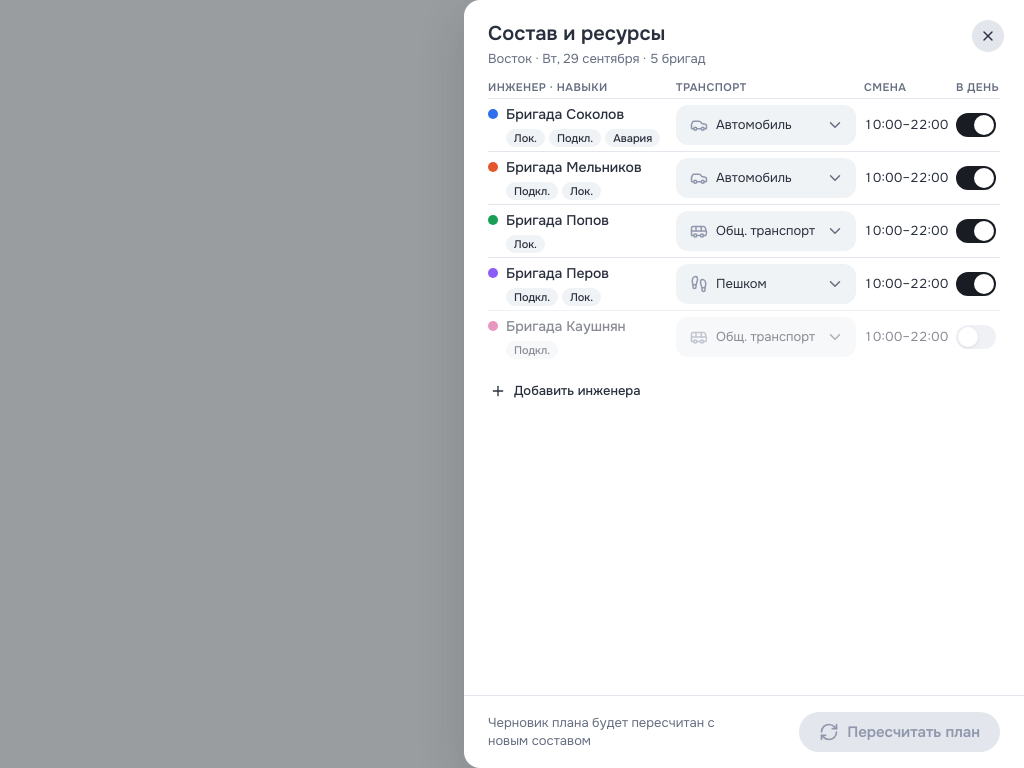
DS-09 «Состав и ресурсы» › черновик дня из записей оператора: пересчёт без публикации
Click the switch in the row of "Бригада Каушнян".
click(978, 337)  # box [956,325,1000,349]
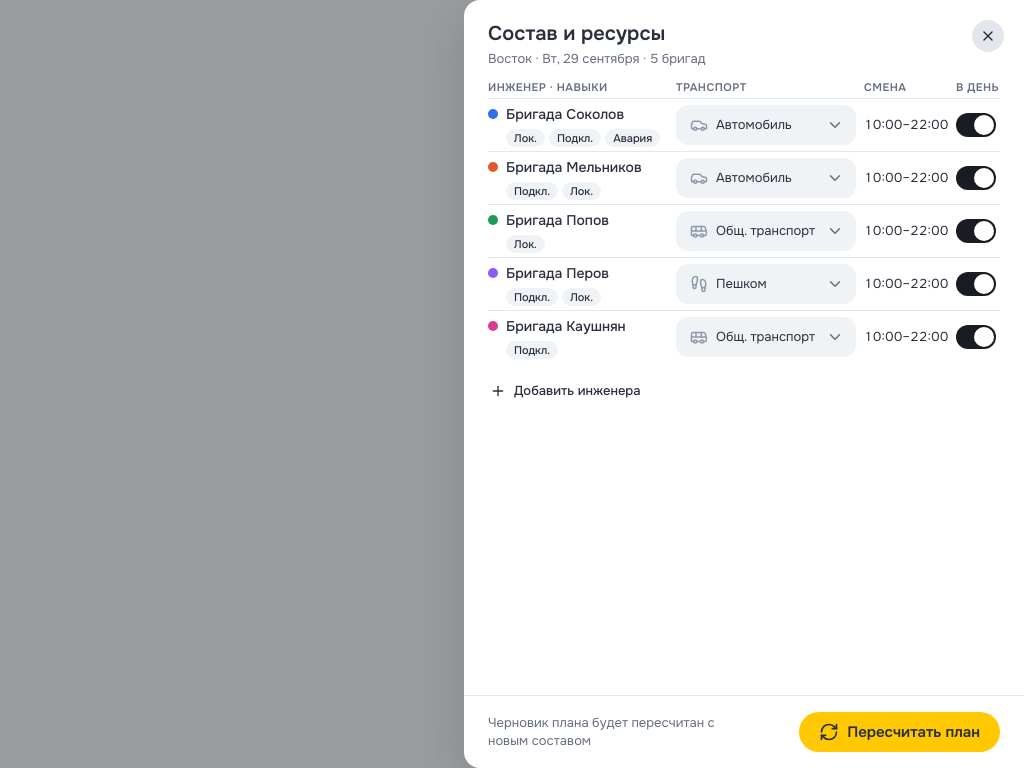
Click the button "Пересчитать план".
click(900, 732)  # box [799,712,1000,752]
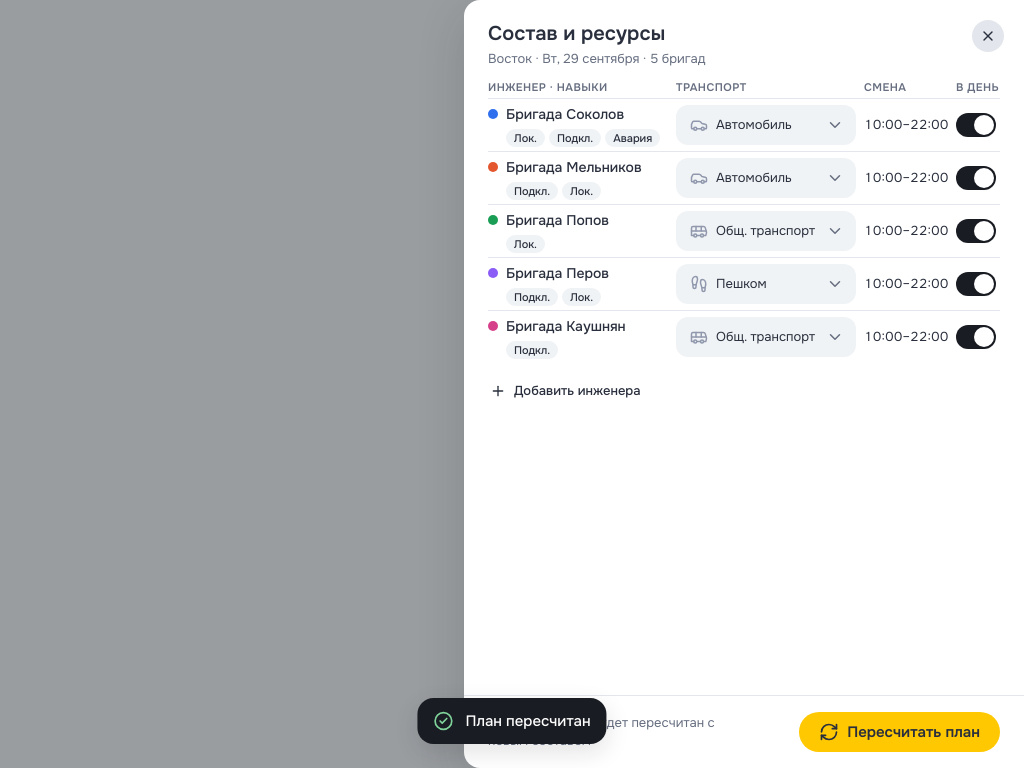
Expected: the text "План пересчитан" is shown, [465,710,590,732]
